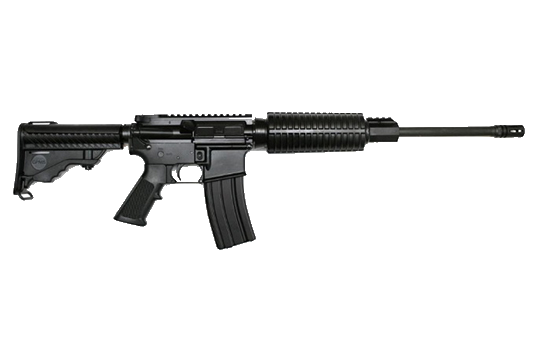Gun: (19, 110, 498, 189)
